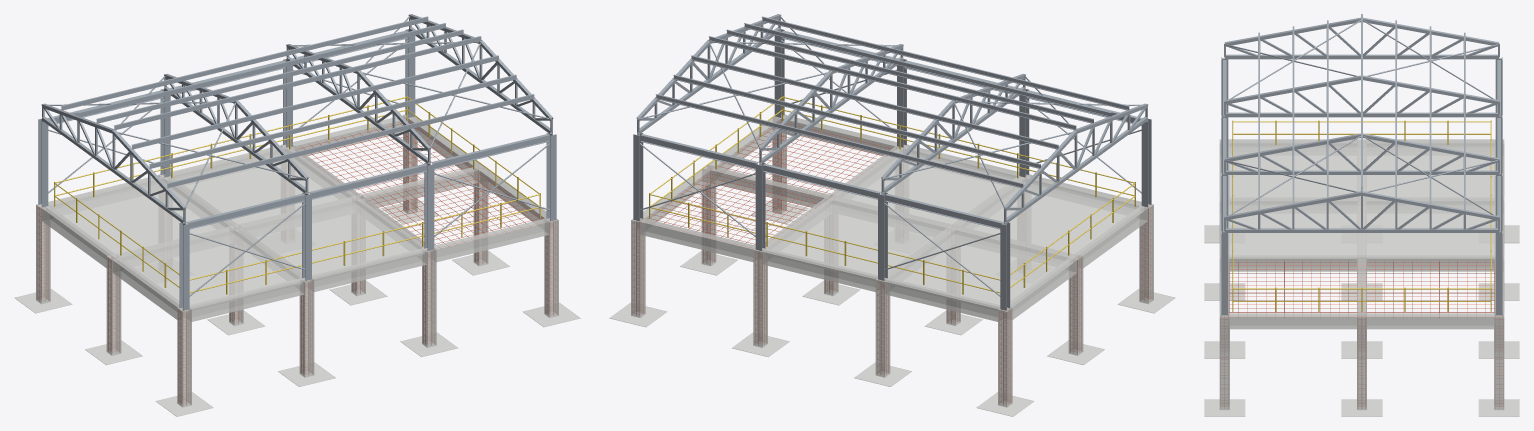
3 views of the same model, side by side, from view 1: azimuth 30°, elevation 25°; view 2: azimuth 150°, elevation 25°; view 3: azimuth 270°, elevation 25° (orthographic). The views are drawn at different scales.
Visible parts, largest first — view 1: 3Xv3PJbtPVUhwlzJwjYQOV, 3KbBm84brN4uVApnH6tlL0, 1mTZgvik1ODP1337OK$3oR, 1QwCicXzrVlR1uC1CC_taG, 0bGHQUZyDIagqA0Q3PACDx, 0Oyy5fZqHRYA1ELiqZi40W, 3$uHqu7RDRvwiLozKM_ZNq, 1iq1AUnuHS1ATDW3p_TCjC, 2zavIN6ELTXQuqvvgHyHMQ, 1nxN4UkjTHPwMIJDAjY1J8, 3_h65wLs9UVwO_GCsn_Hii, 2_ikNNLJjKnen1ApHUz2Oq (+67 smaller); view 2: 3Xv3PJbtPVUhwlzJwjYQOV, 3KbBm84brN4uVApnH6tlL0, 1mTZgvik1ODP1337OK$3oR, 1iUyWkwXrNNeWH7sY4F2Lg, 30UDdvZVHILgz_fraDrZuq, 1NNZx8YcHOOgWkZC2qxErO, 3$uHqu7RDRvwiLozKM_ZNq, 2yZ6gPcWPHOuMnX1j5PqDD, 0U2FA5onbH4eRTcmRdDHjG, 1nxN4UkjTHPwMIJDAjY1J8, 3zX4h6gYLP5vbAij5u0LNX, 3ieBhADNrHb8pp9nSWoiPR (+68 smaller); view 3: 3KbBm84brN4uVApnH6tlL0, 3Xv3PJbtPVUhwlzJwjYQOV, 1mTZgvik1ODP1337OK$3oR, 0ly52x6ELJQwFXL5RTF434, 2TPB7E5ZvQlhqVv0xHAmJD, 13$3Cp3SzNqRghNoJ1Umqg, 3mxMoTh0TTLPIOMi9KygdG, 1Y47sv1KXLY9w0F3bMicD5, 3NbpcE7ZfM69NMTOCUfXyS, 1A4YtYxaHSse8XJ8U0w8AV, 1itopkYNbPGv4EHzATcIA0, 0OB1lbIGfMNweyU2MLLR8R (+34 smaller).
Boxes of the visible parts, box(x1,y1,x2,y2) form: 3Xv3PJbtPVUhwlzJwjYQOV: box(43, 176, 306, 312); 3KbBm84brN4uVApnH6tlL0: box(168, 146, 428, 282); 1mTZgvik1ODP1337OK$3oR: box(298, 121, 543, 248); 1QwCicXzrVlR1uC1CC_taG: box(434, 218, 549, 261); 0bGHQUZyDIagqA0Q3PACDx: box(187, 278, 304, 321); 0Oyy5fZqHRYA1ELiqZi40W: box(311, 248, 426, 291); 3$uHqu7RDRvwiLozKM_ZNq: box(361, 167, 478, 207); 1iq1AUnuHS1ATDW3p_TCjC: box(189, 193, 540, 294); 2zavIN6ELTXQuqvvgHyHMQ: box(299, 278, 314, 377); 1nxN4UkjTHPwMIJDAjY1J8: box(106, 254, 121, 355); 3_h65wLs9UVwO_GCsn_Hii: box(177, 307, 191, 407); 2_ikNNLJjKnen1ApHUz2Oq: box(422, 248, 436, 347); 3Xv3PJbtPVUhwlzJwjYQOV: box(883, 176, 1146, 312); 3KbBm84brN4uVApnH6tlL0: box(761, 146, 1021, 282); 1mTZgvik1ODP1337OK$3oR: box(646, 121, 891, 248); 1iUyWkwXrNNeWH7sY4F2Lg: box(640, 218, 757, 261); 30UDdvZVHILgz_fraDrZuq: box(885, 278, 1002, 321); 1NNZx8YcHOOgWkZC2qxErO: box(763, 248, 878, 291); 3$uHqu7RDRvwiLozKM_ZNq: box(711, 167, 828, 207); 2yZ6gPcWPHOuMnX1j5PqDD: box(649, 193, 1000, 294); 0U2FA5onbH4eRTcmRdDHjG: box(875, 278, 890, 377); 1nxN4UkjTHPwMIJDAjY1J8: box(1068, 254, 1083, 355); 3zX4h6gYLP5vbAij5u0LNX: box(998, 307, 1012, 407); 3ieBhADNrHb8pp9nSWoiPR: box(753, 248, 767, 347); 3KbBm84brN4uVApnH6tlL0: box(1228, 199, 1495, 260); 3Xv3PJbtPVUhwlzJwjYQOV: box(1228, 141, 1495, 199); 1mTZgvik1ODP1337OK$3oR: box(1228, 260, 1495, 317); 0ly52x6ELJQwFXL5RTF434: box(1230, 255, 1356, 271); 2TPB7E5ZvQlhqVv0xHAmJD: box(1367, 255, 1493, 271); 13$3Cp3SzNqRghNoJ1Umqg: box(1230, 313, 1356, 329); 3mxMoTh0TTLPIOMi9KygdG: box(1367, 313, 1493, 329); 1Y47sv1KXLY9w0F3bMicD5: box(1225, 112, 1498, 117); 3NbpcE7ZfM69NMTOCUfXyS: box(1225, 54, 1498, 59); 1A4YtYxaHSse8XJ8U0w8AV: box(1225, 228, 1498, 232); 1itopkYNbPGv4EHzATcIA0: box(1225, 170, 1498, 174); 0OB1lbIGfMNweyU2MLLR8R: box(1233, 120, 1490, 144).
Bounding box in the file's own units: 19.8 × 10.65 × 13.8.
